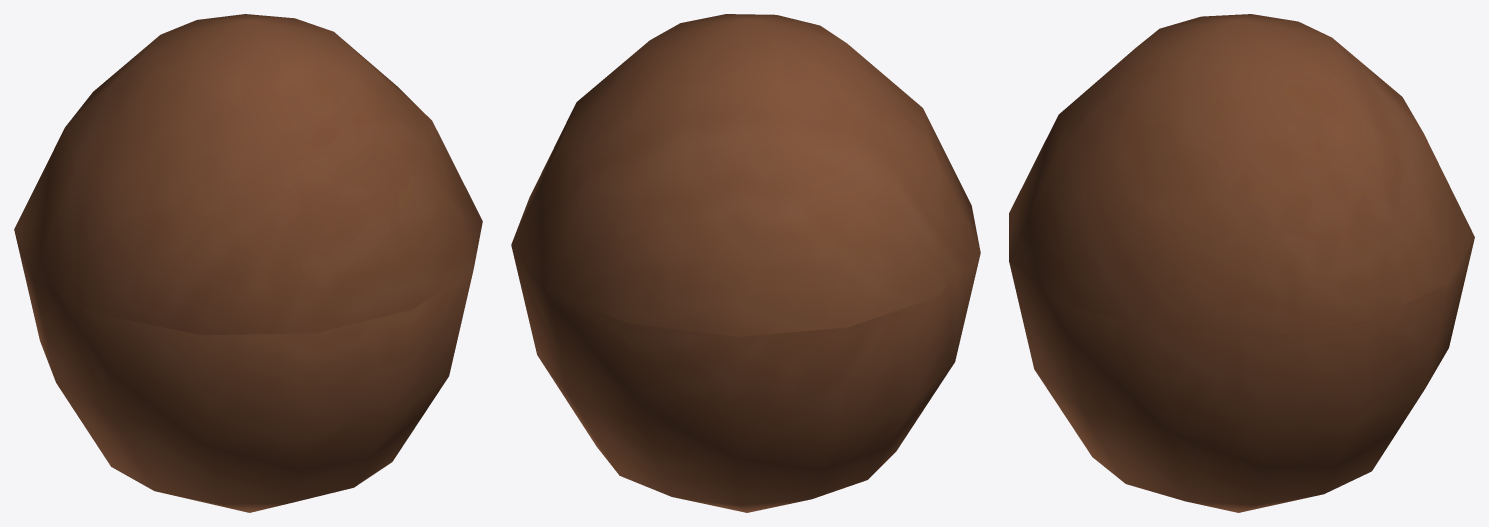
The model's file is Coconut.FBX.
3 views of the same model, side by side, from view 1: azimuth 30°, elevation 25°; view 2: azimuth 150°, elevation 25°; view 3: azimuth 270°, elevation 25° (orthographic).
Parts seen in each view (by area): view 1: coconut; view 2: coconut; view 3: coconut.
Boxes of the visible parts, x1,y1,x2,y2 form: coconut: (14,14,482,512); coconut: (511,14,980,512); coconut: (1009,14,1474,512).
Bounding box in the file's own units: 73.08 × 84.54 × 72.55.
1 material, 1 textured.
